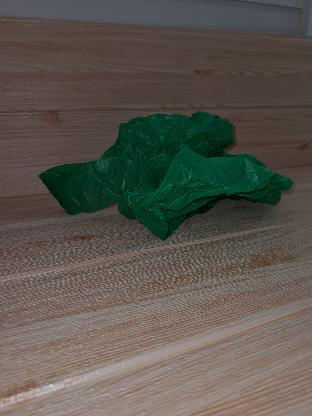Plastic Bag: (38, 109, 294, 239)
